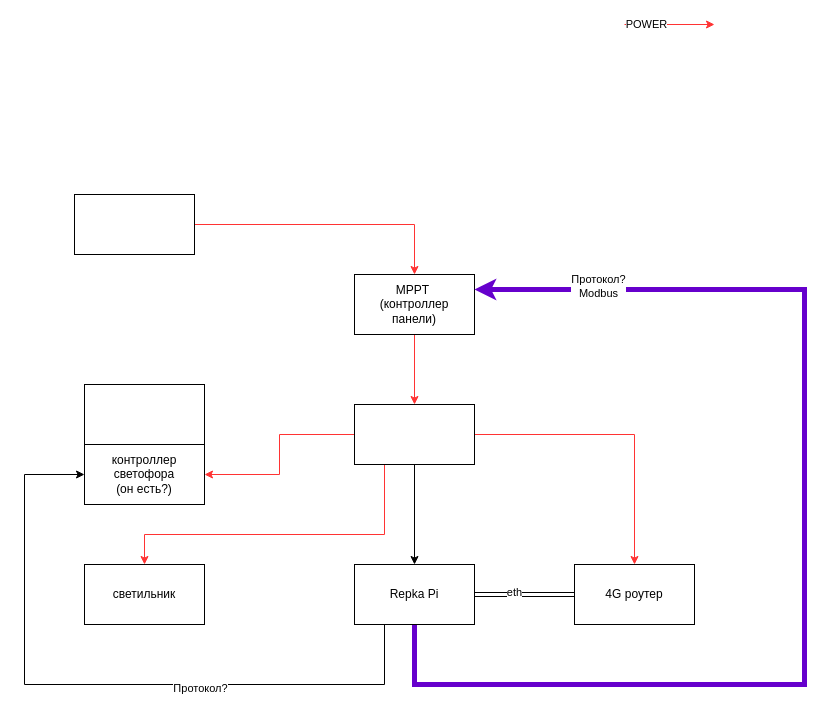
The diagram is 832 pixels wide and 712 high, and some of its shapes have lost their labels. Each missing label, with the centre of its shape:
"АКБ" belongs at (414,434).
"светофор" belongs at (144,414).
"солнечная паенль" belongs at (134,224).
